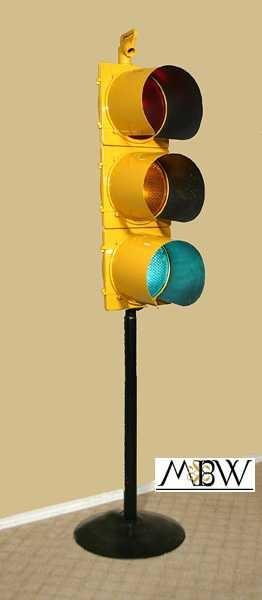green: (104, 232, 209, 312)
